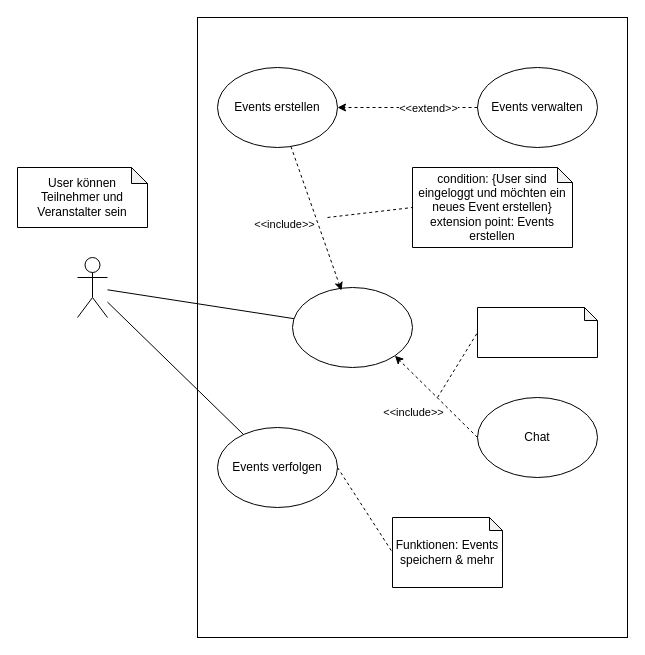
This 645x655 diagram has some shape labels left out. The centre of each missing label's shape, as x and y in pixels:
"condition: {User ist eingeloggt} extension point: Chat" goes at (x=537, y=332).
"Login" goes at (x=352, y=327).
"User" goes at (x=92, y=287).
